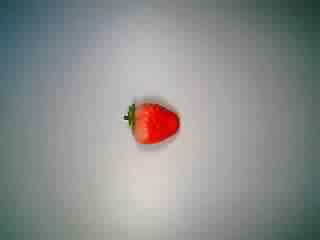strawberry: (117, 97, 185, 149)
